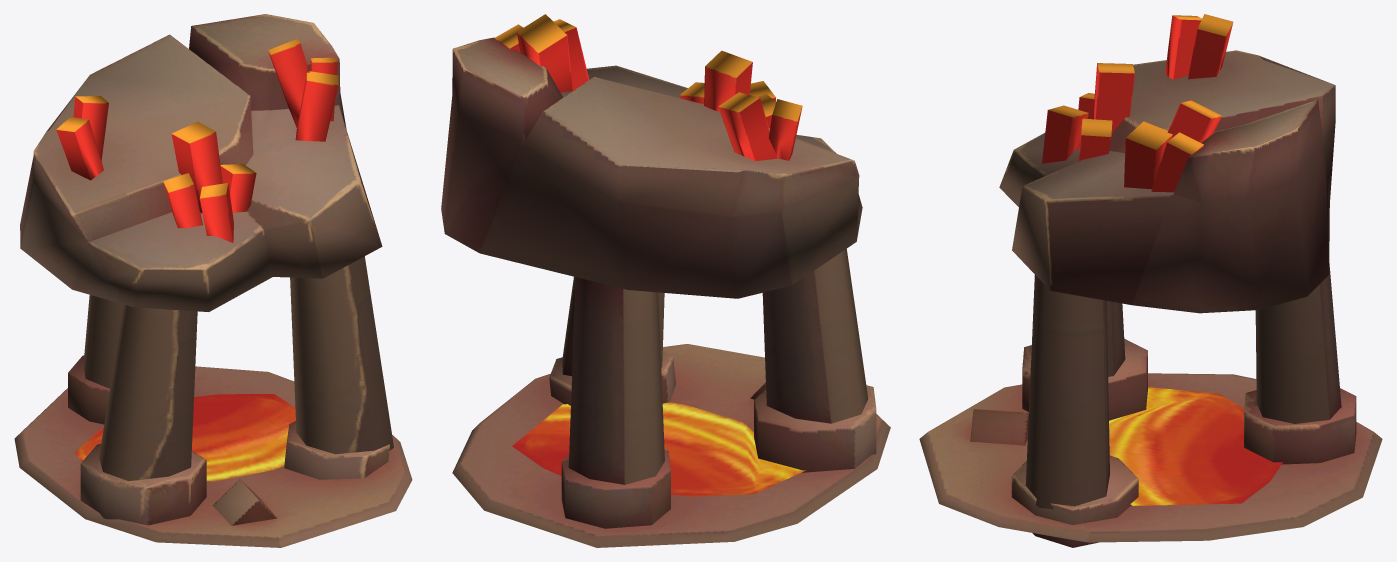
The model's file is MountainCave.fbx.
The picture shows the model from 3 angles, left to right: view 1: azimuth 30°, elevation 25°; view 2: azimuth 150°, elevation 25°; view 3: azimuth 270°, elevation 25°; orthographic projection. The views are drawn at different scales.
Visible parts, largest first — view 1: MountainCave; view 2: MountainCave; view 3: MountainCave.
Part boxes in pixels (bbox=[...]): MountainCave: bbox=[14, 14, 412, 547]; MountainCave: bbox=[441, 14, 890, 547]; MountainCave: bbox=[919, 14, 1382, 547].
Size of the model in its own units: 25.85 by 30.36 by 29.93.
